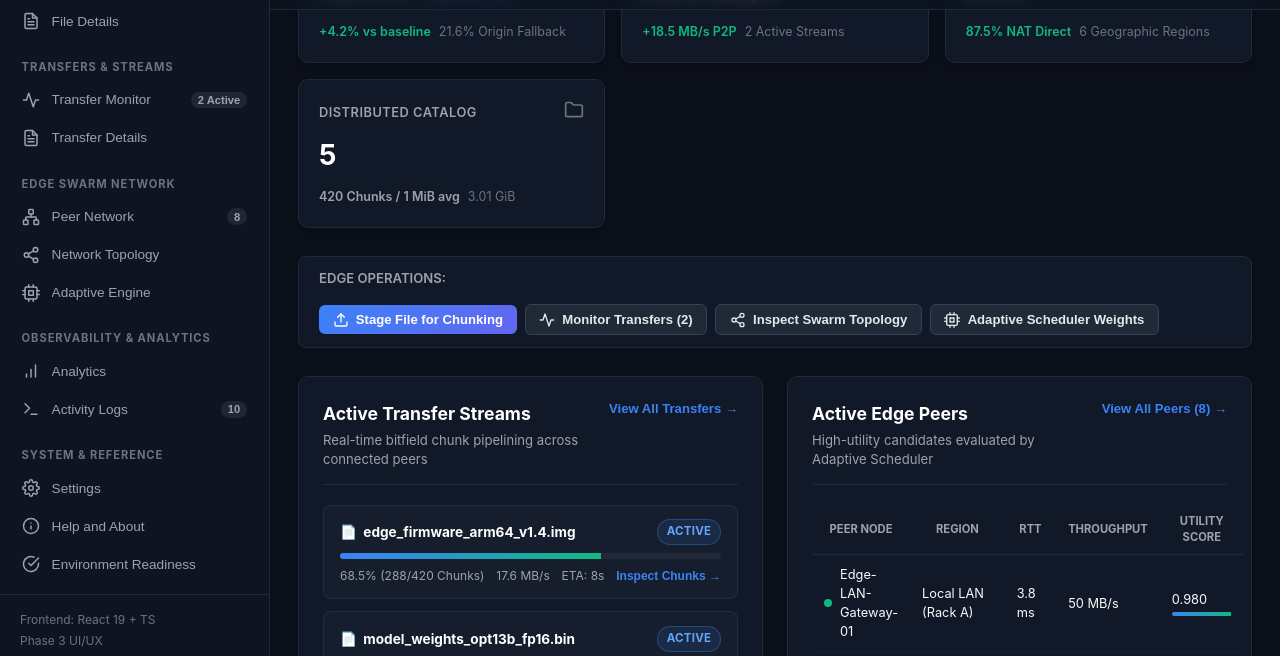
Intelligent P2P Edge Frontend - Phase 3 Navigation & UI › navigates to Help and About and presents architecture and boundaries
(page scrolled)
Click the button "Help and About": coordinates (134, 526) left=8, top=508, right=261, bottom=544
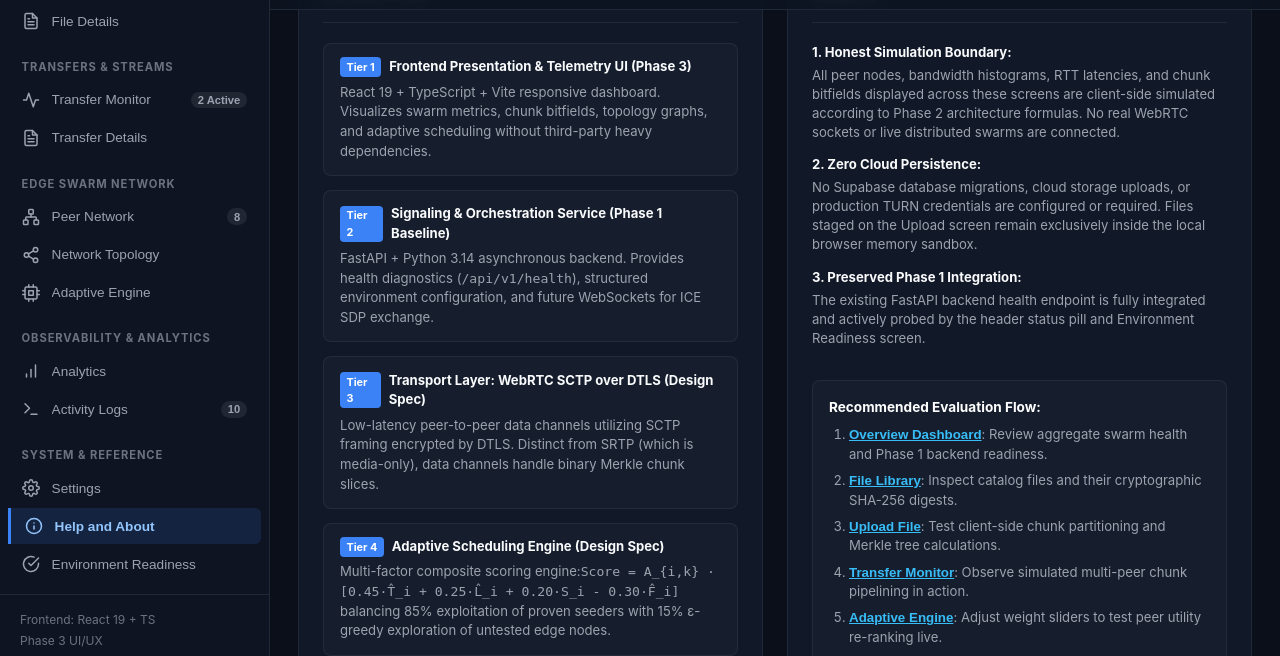
Result: the text "1. Honest Simulation Boundary:" is shown at left=812, top=44, right=1012, bottom=60
